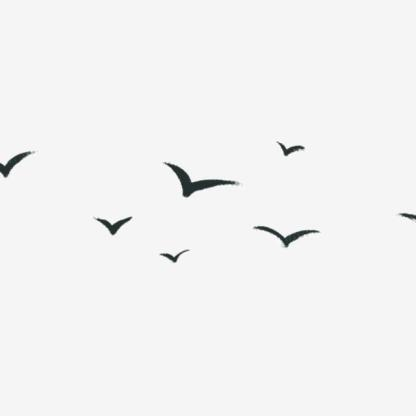bird: (149, 158, 248, 206), (249, 222, 324, 261), (0, 144, 43, 193), (87, 207, 139, 243), (265, 136, 308, 162), (156, 249, 189, 270)
